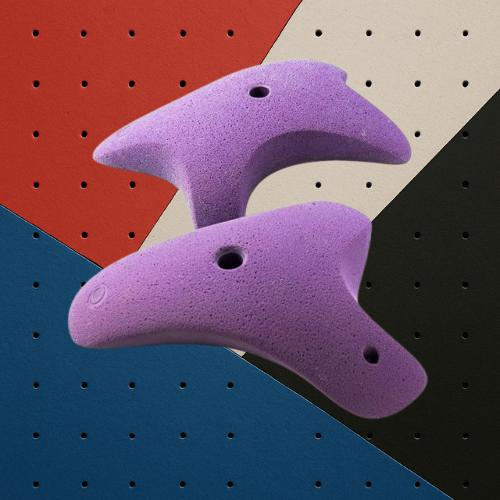Pinch: (66, 198, 428, 420), (90, 57, 408, 230)
